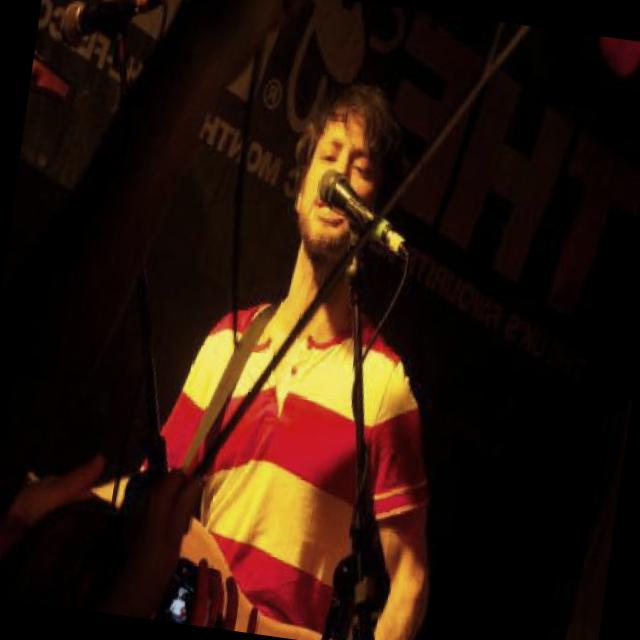Person: (118, 55, 500, 640)
